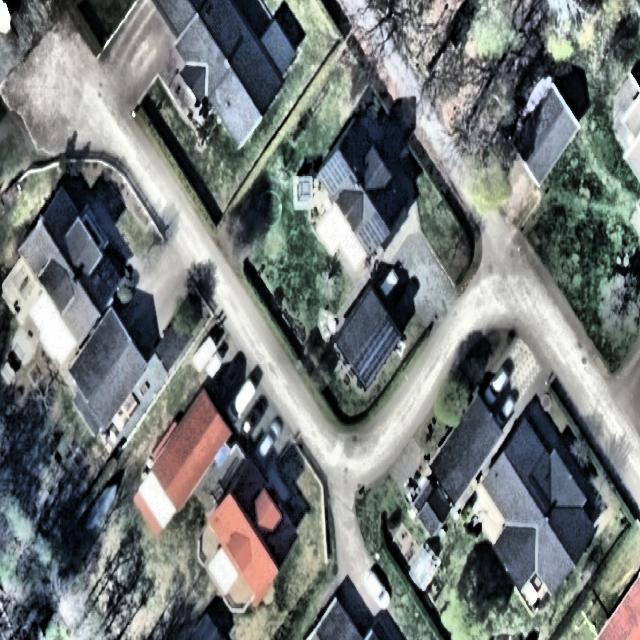roof_pv: (351, 329, 377, 393), (319, 150, 353, 197), (357, 208, 388, 254), (379, 318, 400, 365)
